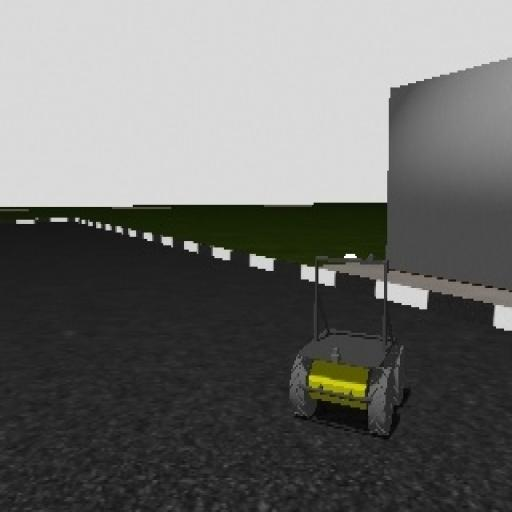huskya200: (274, 253, 423, 439)
